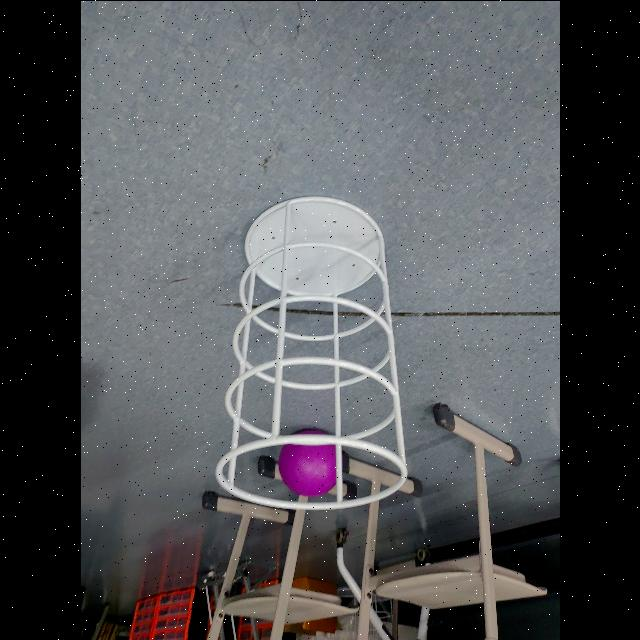S: (211, 192, 411, 512)
